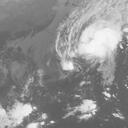cyclone: (64, 15, 119, 70)
